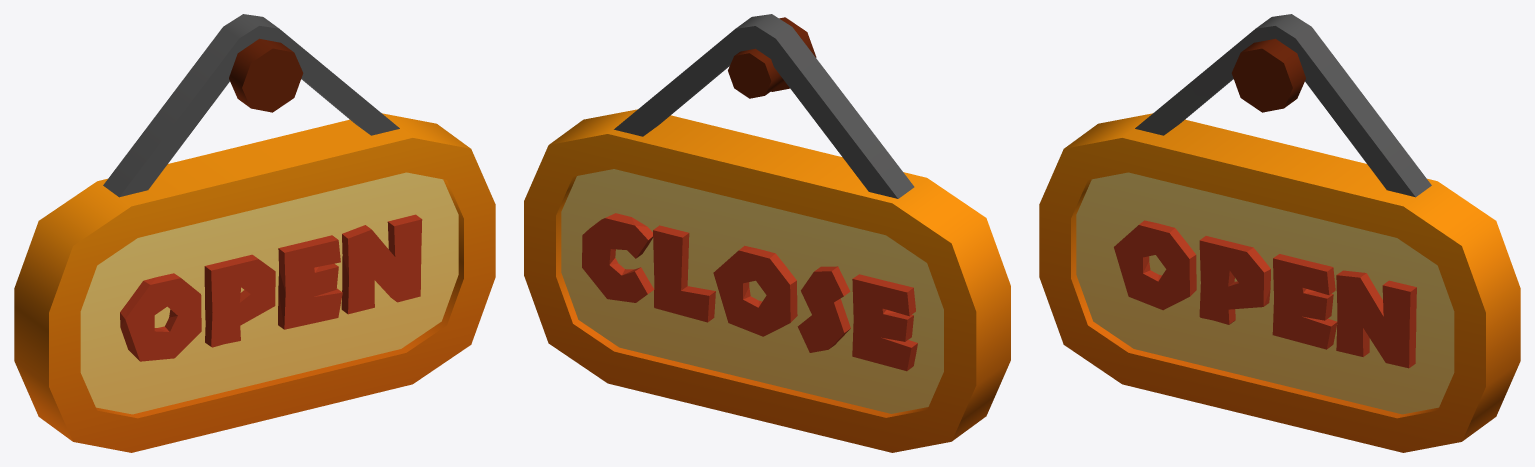
The model's file is Open_Close_Sign_01.fbx.
3 renders of one model, left to right at view 1: azimuth 30°, elevation 25°; view 2: azimuth 150°, elevation 25°; view 3: azimuth 330°, elevation 25°, orthographic.
Visible parts, largest first — view 1: Open_Close_Sign_01_Swap, Open_Close_Sign_01; view 2: Open_Close_Sign_01_Swap, Open_Close_Sign_01; view 3: Open_Close_Sign_01_Swap, Open_Close_Sign_01.
Boxes of the visible parts, x1,y1,x2,y2 form: Open_Close_Sign_01_Swap: [14, 14, 495, 452]; Open_Close_Sign_01: [229, 38, 303, 112]; Open_Close_Sign_01_Swap: [524, 14, 1010, 452]; Open_Close_Sign_01: [728, 17, 816, 98]; Open_Close_Sign_01_Swap: [1039, 14, 1520, 452]; Open_Close_Sign_01: [1231, 38, 1305, 112].
Size of the model in its own units: 75.66 by 62.08 by 10.76.
